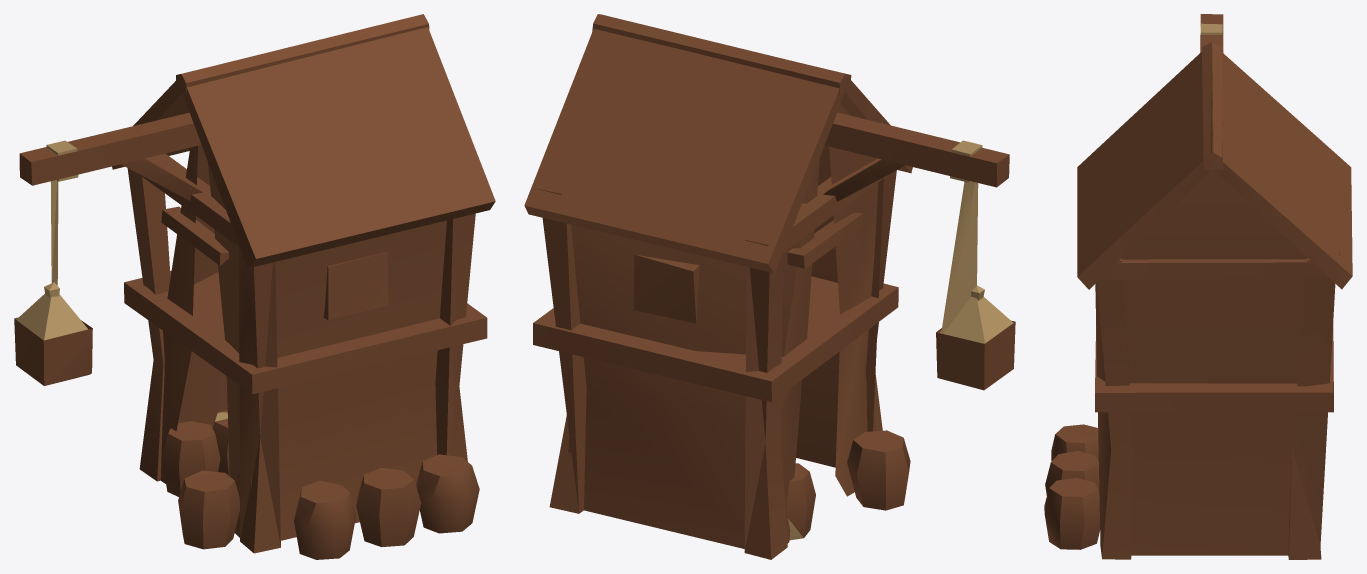
The model's file is supply.4.glb.
3 renders of one model, left to right at view 1: azimuth 30°, elevation 25°; view 2: azimuth 150°, elevation 25°; view 3: azimuth 270°, elevation 25°, orthographic. The views are drawn at different scales.
Parts seen in each view (by area): view 1: supply; view 2: supply; view 3: supply.
Boxes of the visible parts, bbox=[...] form: supply: bbox=[14, 14, 495, 559]; supply: bbox=[524, 14, 1015, 559]; supply: bbox=[1044, 14, 1352, 559].
Size of the model in its own units: 0.9 by 0.9479 by 0.6437.
